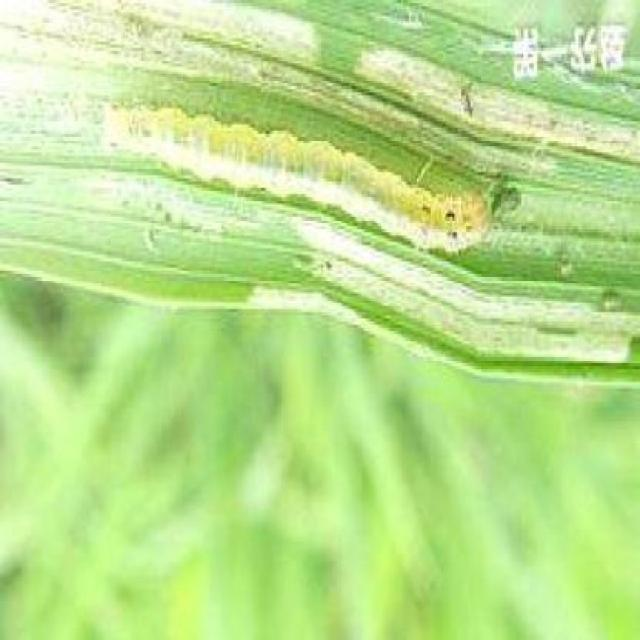leaf-folder: (97, 74, 529, 274)
